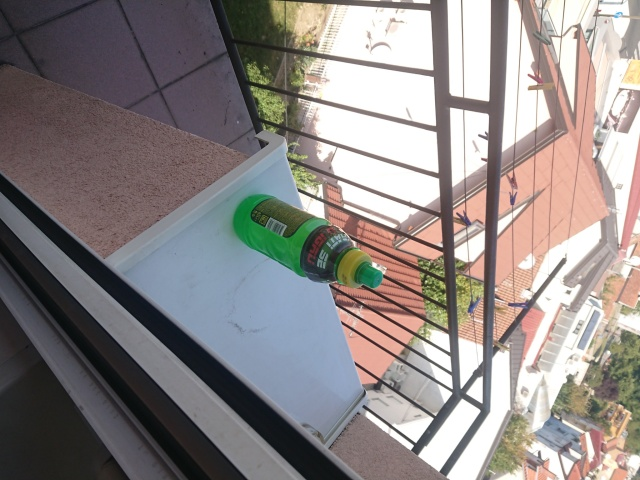Vindi Iso Sport Lemon-Grapefruit 500mL: (229, 191, 386, 291)
